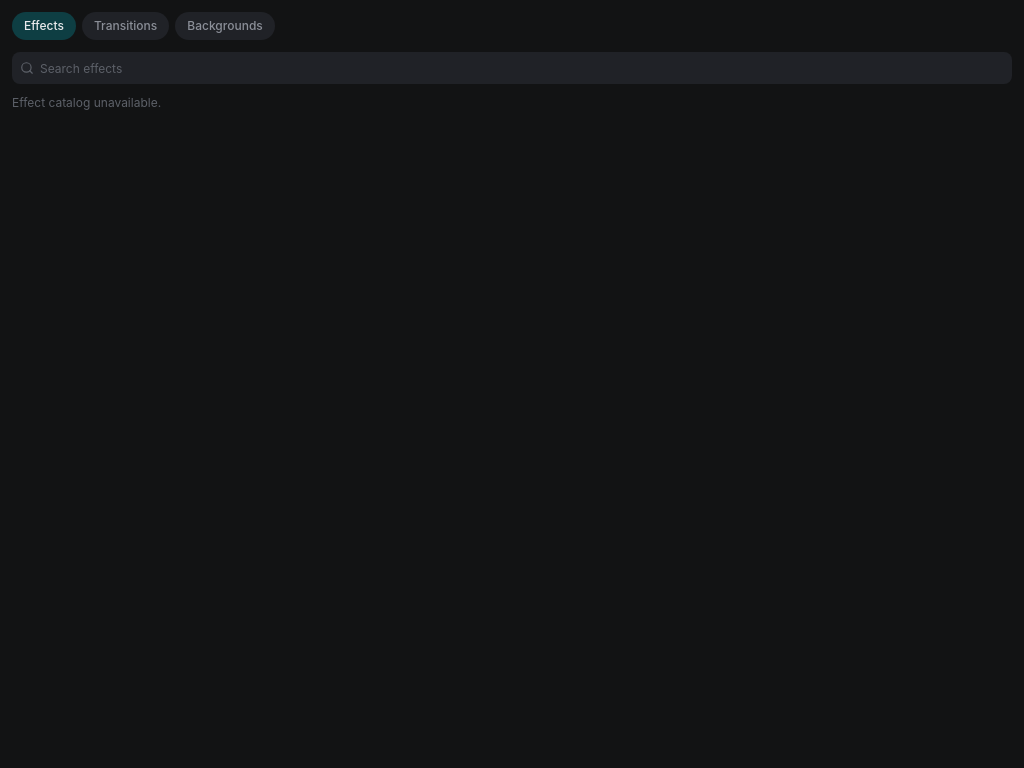
Test case: Effects tab transitions › lists the four transitions with animated previews
Click the button "Transitions" at {"x": 126, "y": 26}, box 82,12 -> 169,40
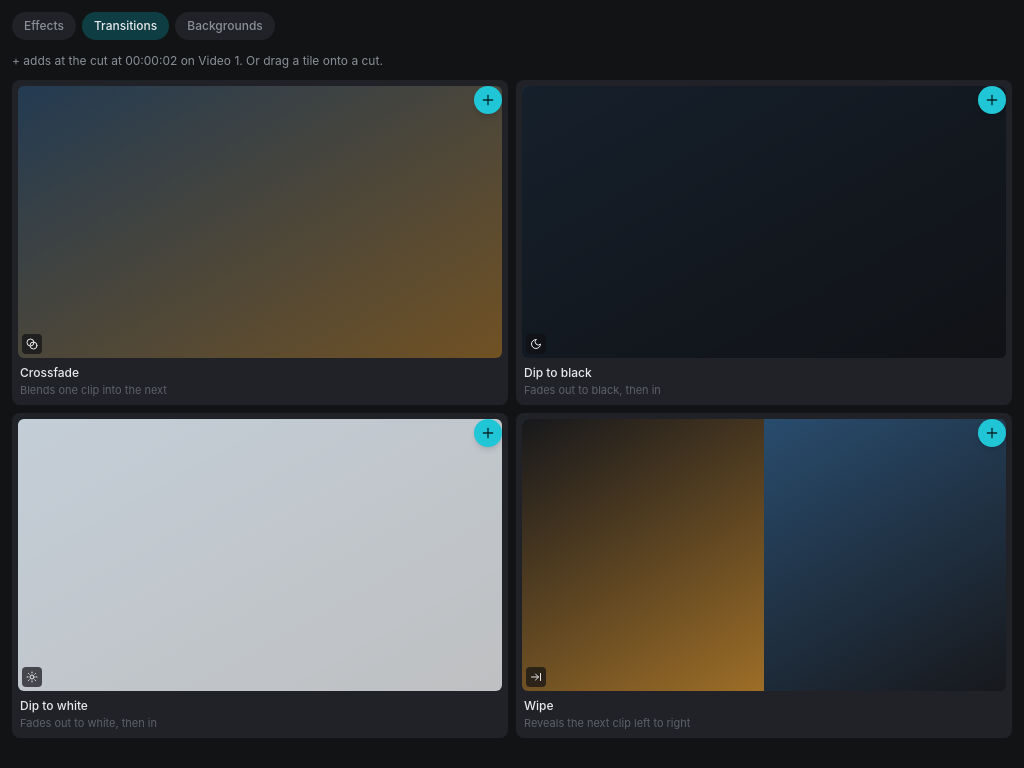
Expected: the number of elements with test id "transition-preview" is 4, 18,86 -> 502,358; 522,86 -> 1006,358; 18,419 -> 502,691; 522,419 -> 1006,691
